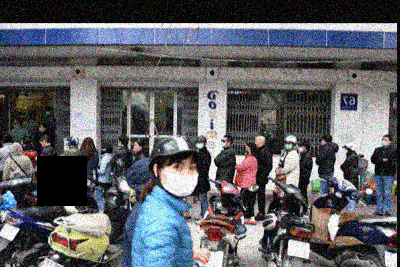with_mask: (159, 159, 199, 200), (195, 140, 203, 151), (380, 138, 388, 147), (220, 139, 227, 149), (284, 142, 292, 150), (243, 146, 249, 156), (132, 143, 138, 153), (37, 126, 44, 133), (298, 145, 304, 153), (44, 110, 51, 116), (99, 147, 104, 155), (116, 140, 120, 148), (19, 142, 23, 149), (344, 147, 347, 156)
without_mask: (253, 138, 262, 148), (38, 140, 45, 149)
